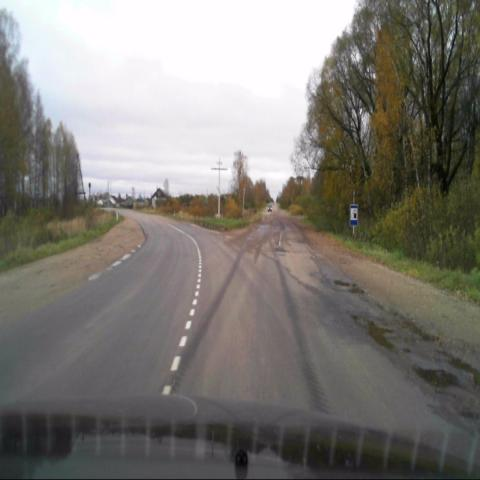7_3: (350, 205, 358, 226)
